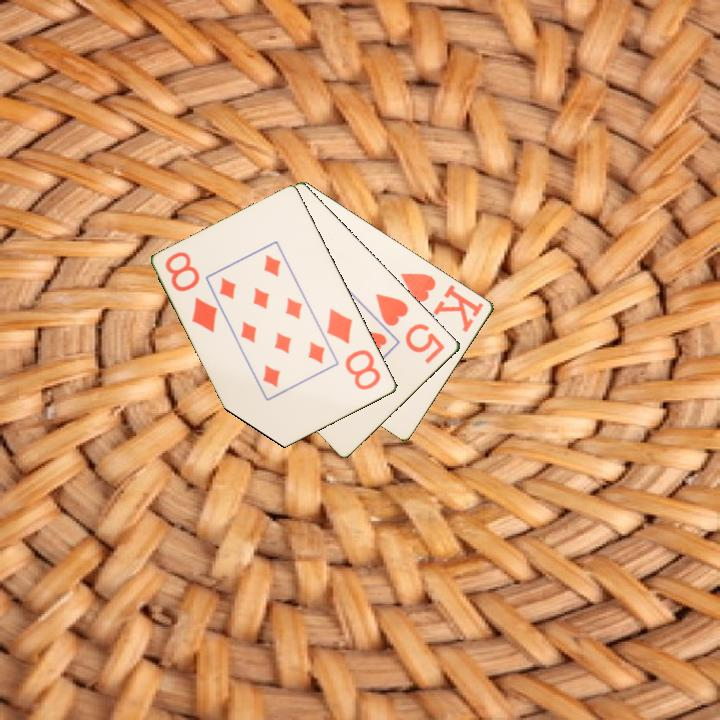5h: (372, 290, 448, 367)
8d: (323, 305, 384, 393), (162, 248, 221, 336)
Kh: (397, 269, 487, 335)
